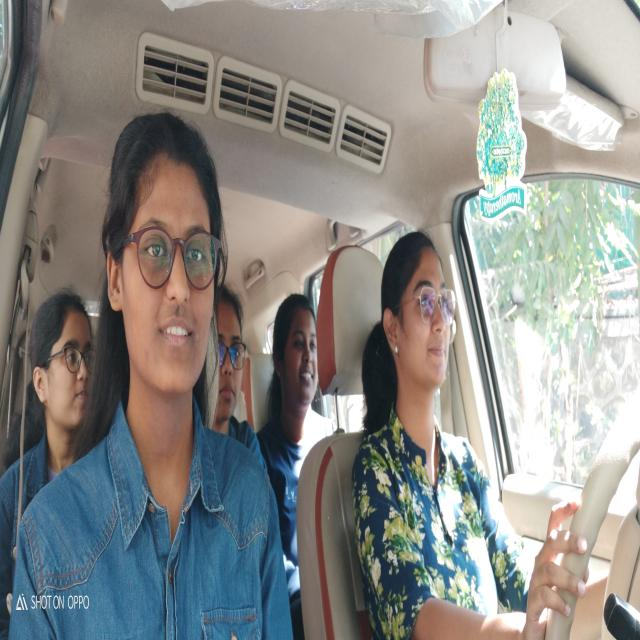person: (105, 102, 229, 403), (378, 231, 457, 397), (26, 292, 100, 443), (271, 290, 323, 418), (216, 284, 248, 430)
